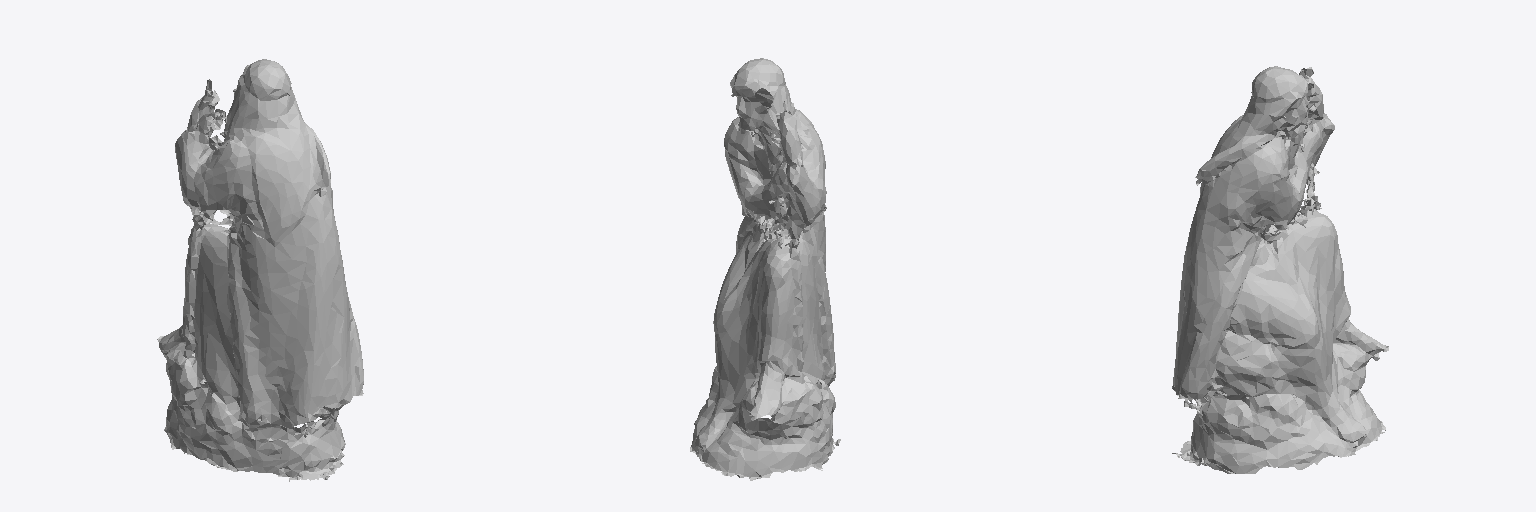
Rendered from joseBaixRes.obj.
The picture shows the model from 3 angles: view 1: azimuth 30°, elevation 25°; view 2: azimuth 150°, elevation 25°; view 3: azimuth 270°, elevation 25°; orthographic projection.
Parts seen in each view (by area): view 1: figura_1; view 2: figura_1; view 3: figura_1.
Boxes of the visible parts, x1,y1,x2,y2 form: figura_1: [157, 59, 363, 481]; figura_1: [690, 58, 840, 480]; figura_1: [1172, 66, 1388, 473].
Size of the model in its own units: 35.08 by 90.83 by 46.93.